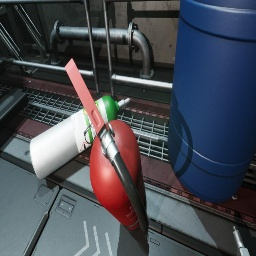0: (30, 95, 131, 180), (233, 226, 250, 256)
FireExtinguisher ]: (64, 58, 149, 236)
